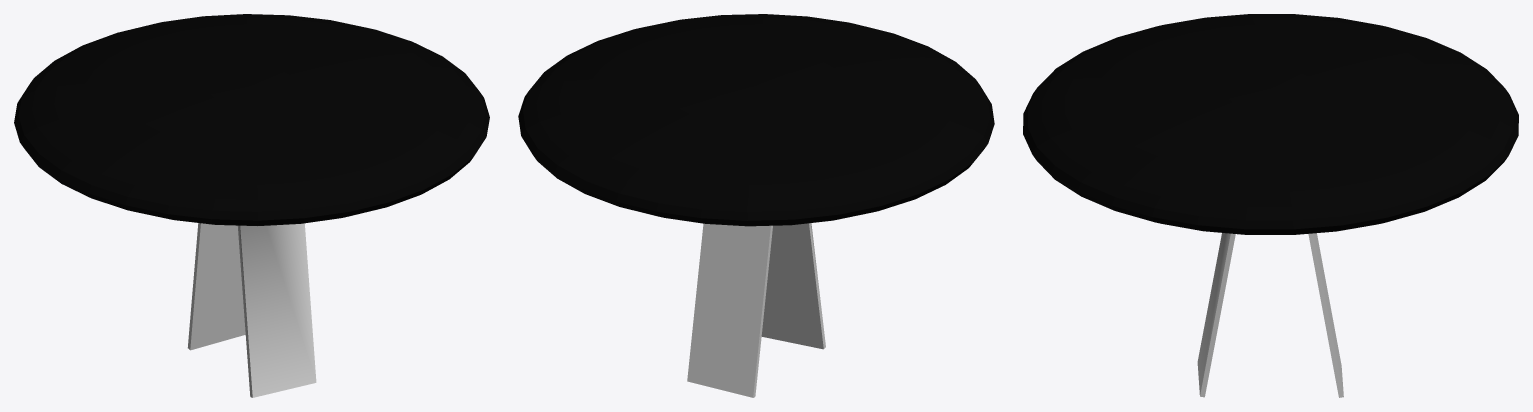
3 renders of one model, left to right at view 1: azimuth 30°, elevation 25°; view 2: azimuth 150°, elevation 25°; view 3: azimuth 270°, elevation 25°, orthographic. The views are drawn at different scales.
Parts seen in each view (by area): view 1: 球.001, 立方体.001, 立方体; view 2: 球.001, 立方体, 立方体.001; view 3: 球.001, 立方体.001, 立方体.
Part boxes in pixels (box(x1,y1,x2,y2)): 球.001: box(14, 14, 489, 225); 立方体.001: box(237, 223, 316, 397); 立方体: box(187, 223, 245, 350); 球.001: box(518, 14, 994, 226); 立方体: box(687, 223, 772, 397); 立方体.001: box(761, 223, 825, 349); 球.001: box(1023, 14, 1518, 234); 立方体.001: box(1197, 233, 1235, 397); 立方体: box(1308, 233, 1343, 397).
Size of the model in its own units: 8.37 by 5.46 by 8.37.
Materials: 1 (1 with a texture image).
